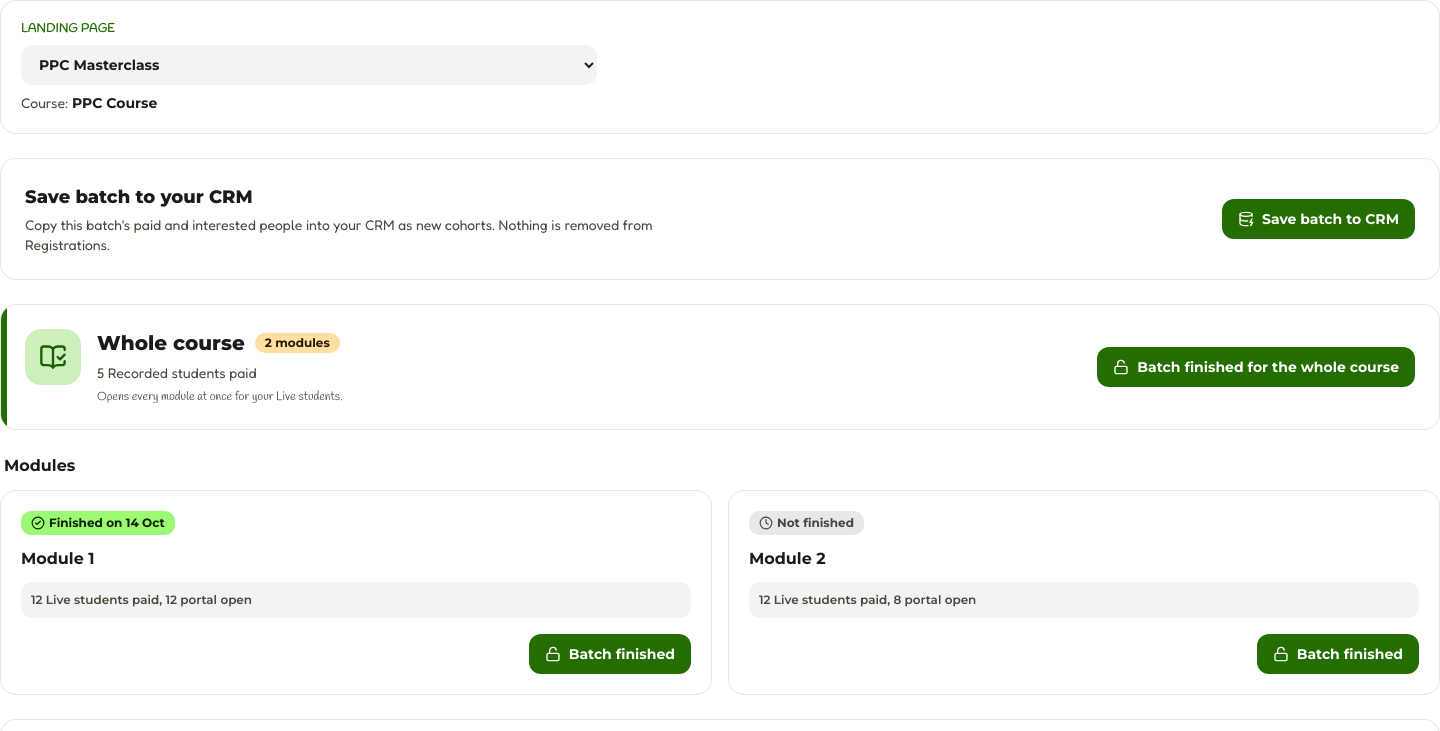
Test: BatchAccessPanel › posts the module id after confirming and shows the result in plain words
Expected: the heading "Module 2" is shown, [749,549,826,568]
Click the 2nd button "Batch finished" at (1338,654), box [1257,634,1419,674]
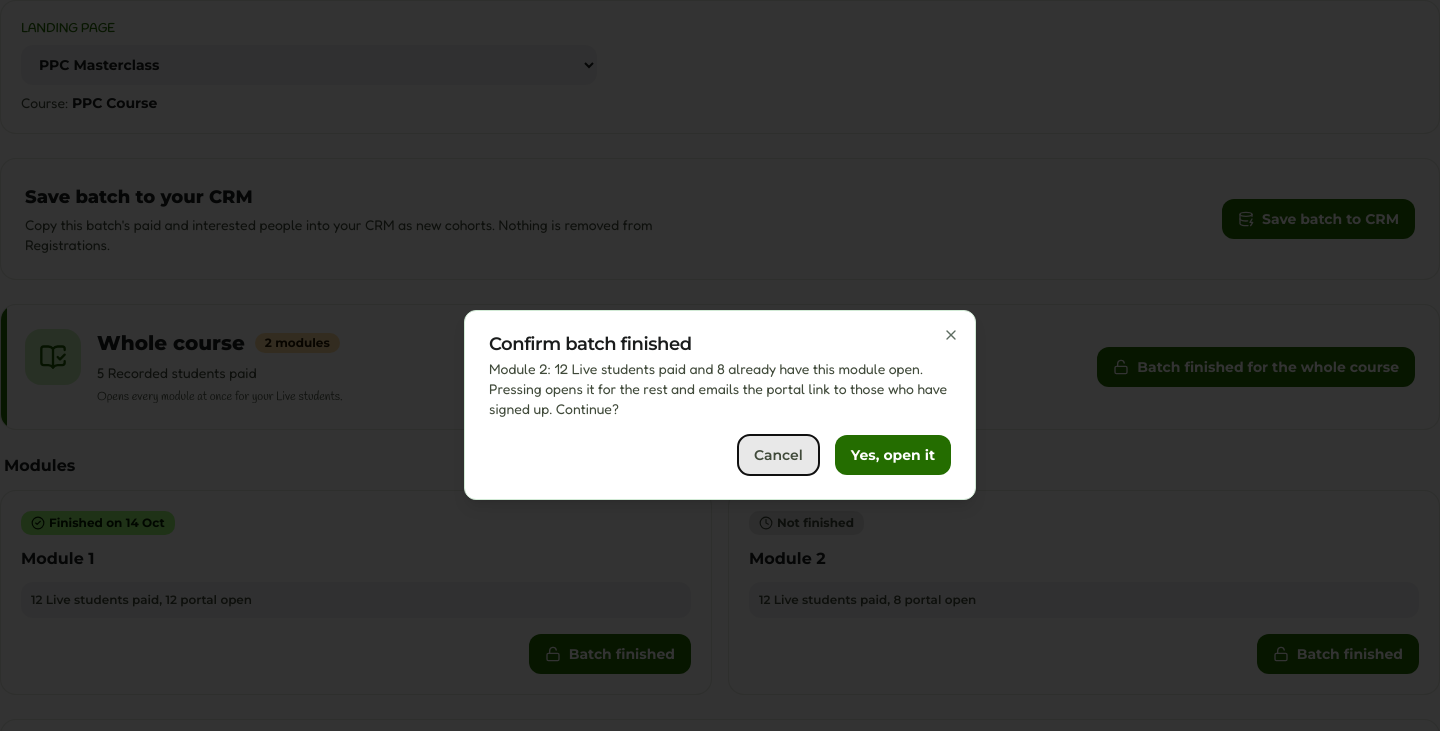
Click the button "Yes, open it" at (893,455), box [835,435,951,475]
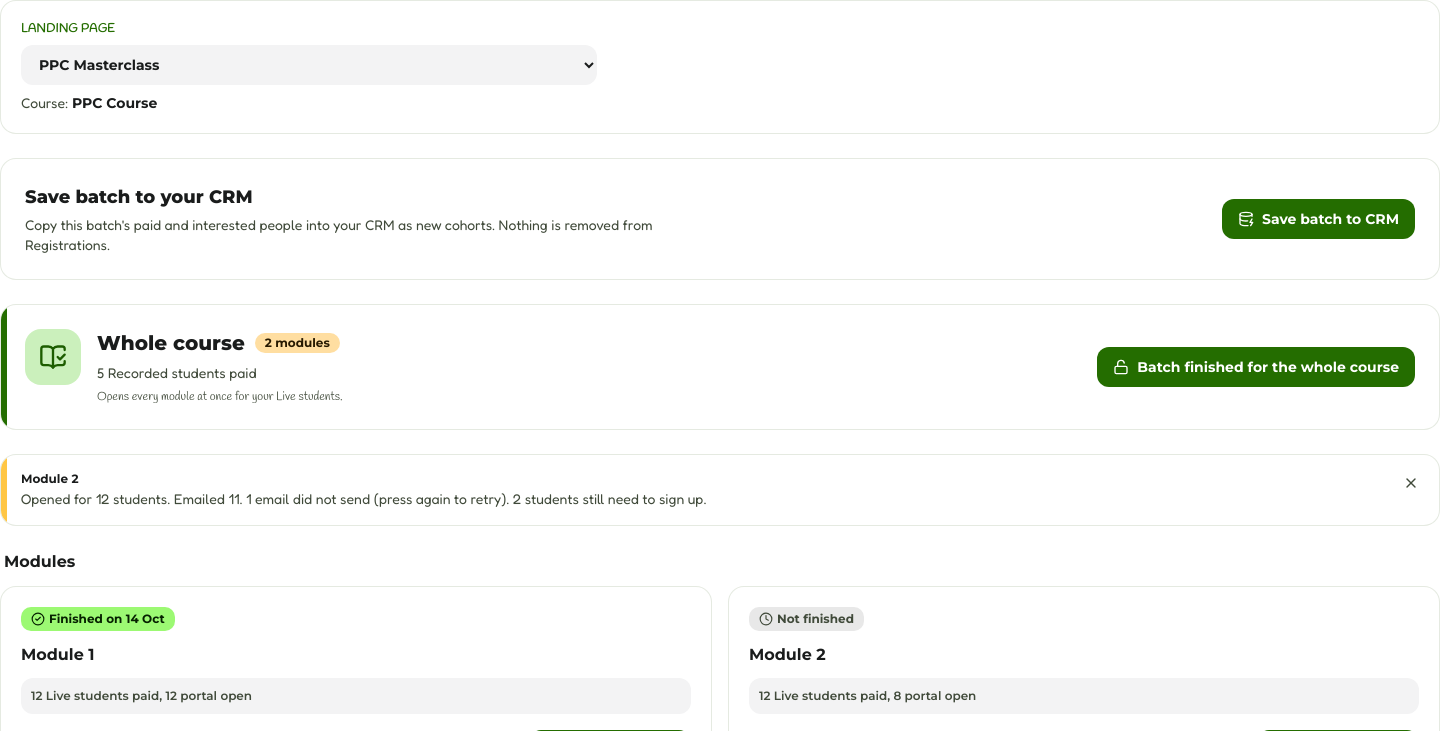
Expected: the text "Opened for 12 students. Emailed 11. 1 email did not send (press again to retry). 2 students still need to sign up." is shown, [21,490,706,507]
